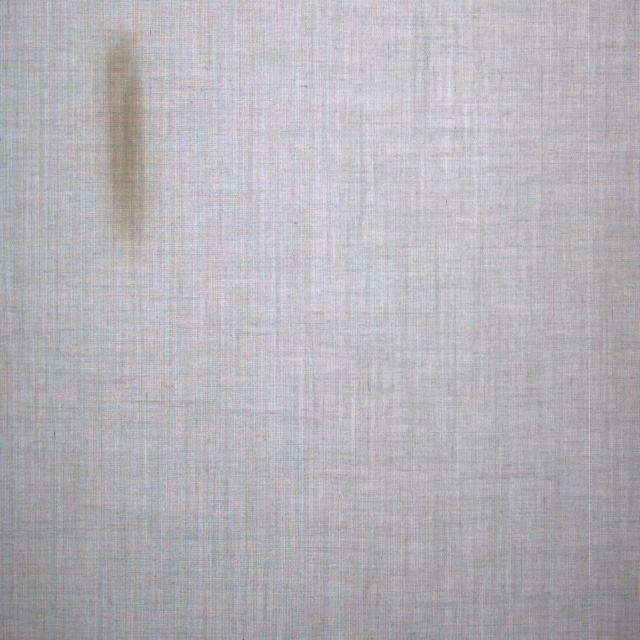dirty: (106, 36, 144, 237)
